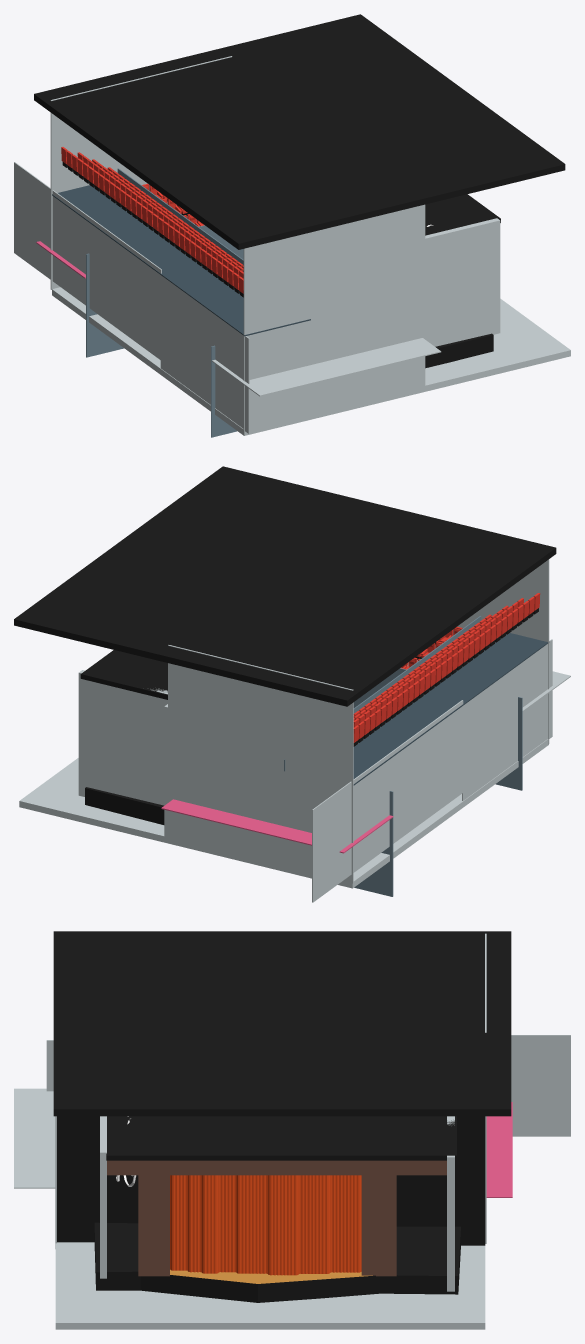
The model's file is Theatre.glb.
The picture shows the model from 3 angles, top to bottom: view 1: azimuth 30°, elevation 25°; view 2: azimuth 150°, elevation 25°; view 3: azimuth 270°, elevation 25°; orthographic projection. The views are drawn at different scales.
Visible parts, largest first — view 1: group448409745, group818006074, group223517107, group2016318933, group445607873, group489023030, group1905365015, group584430783, group1535005260, group1235178265, group1121094332, group1079906564 (+2 smaller); view 2: group448409745, group1535005260, group223517107, group339907138, group445607873, group489023030, group1905365015, group818006074, group1235178265, group825709056, group1079906564, group1121094332 (+2 smaller); view 3: group448409745, group489023030, group1235178265, group1079906564, group2127548775, group531132724, group223517107, group1528355684, group584430783, group600755998, group648794729, group825709056 (+11 smaller).
Part boxes in pixels (box(x1,y1,x2,y2)): group448409745: box(34, 14, 565, 249); group818006074: box(243, 204, 425, 434); group223517107: box(14, 162, 161, 360); group2016318933: box(425, 218, 500, 346); group445607873: box(160, 275, 249, 433); group489023030: box(52, 287, 570, 435); group1905365015: box(52, 185, 310, 336); group584430783: box(212, 338, 441, 396); group1535005260: box(50, 56, 232, 289); group1235178265: box(425, 194, 500, 235); group1121094332: box(86, 225, 243, 357); group1079906564: box(425, 333, 493, 368); group448409745: box(14, 466, 556, 706); group1535005260: box(168, 645, 353, 883); group223517107: box(312, 700, 463, 902); group339907138: box(78, 670, 167, 805); group445607873: box(462, 639, 552, 800); group489023030: box(19, 739, 548, 888); group1905365015: box(353, 633, 549, 785); group818006074: box(435, 559, 549, 743); group1235178265: box(80, 650, 167, 699); group825709056: box(161, 799, 393, 853); group1079906564: box(85, 787, 164, 824); group1121094332: box(354, 791, 393, 896); group448409745: box(53, 931, 511, 1116); group489023030: box(55, 1242, 485, 1329); group1235178265: box(106, 1116, 456, 1160); group1079906564: box(94, 1222, 460, 1302); group2127548775: box(396, 1116, 485, 1245); group531132724: box(57, 1126, 138, 1242); group223517107: box(511, 1035, 570, 1136); group1528355684: box(107, 1160, 446, 1175); group584430783: box(14, 1088, 55, 1188); group600755998: box(361, 1175, 396, 1276); group648794729: box(138, 1175, 169, 1276); group825709056: box(486, 1102, 512, 1197).
Bounding box in the file's own units: 6.8 × 4.48 × 8.81.
